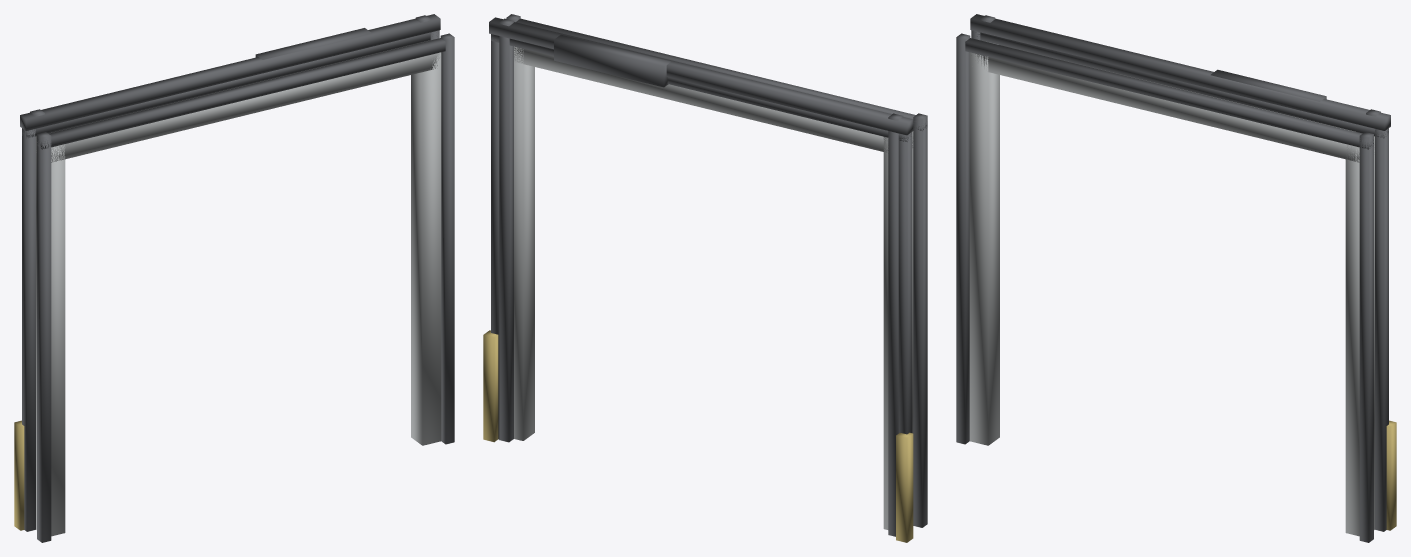
The model's file is bay_opening_loading_bay_w360_h360_d20.glb.
The picture shows the model from 3 angles, left to right: view 1: azimuth 30°, elevation 25°; view 2: azimuth 150°, elevation 25°; view 3: azimuth 330°, elevation 25°; orthographic projection.
Visible parts, largest first — view 1: world; view 2: world; view 3: world.
Boxes of the visible parts, left/top/right/bottom form: world: left=14, top=14, right=454, bottom=542; world: left=483, top=14, right=927, bottom=542; world: left=956, top=14, right=1396, bottom=542.
Size of the model in its own units: 4.23 by 3.99 by 0.422.
